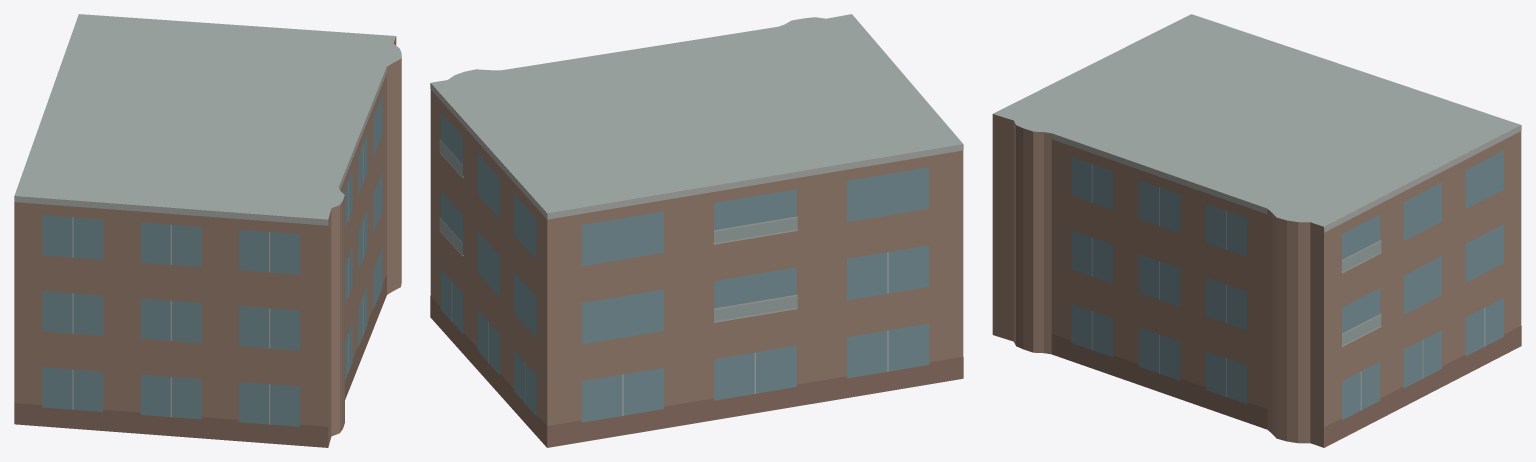
The model's file is survey-upis-32526485.glb.
3 views of the same model, side by side, from view 1: azimuth 30°, elevation 25°; view 2: azimuth 150°, elevation 25°; view 3: azimuth 270°, elevation 25° (orthographic). The views are drawn at different scales.
Parts seen in each view (by area): view 1: survey-upis-32526485.tmp; view 2: survey-upis-32526485.tmp; view 3: survey-upis-32526485.tmp.
Boxes of the visible parts, x1=… form: survey-upis-32526485.tmp: x1=14, y1=14, x2=401, y2=447; survey-upis-32526485.tmp: x1=430, y1=14, x2=963, y2=447; survey-upis-32526485.tmp: x1=992, y1=14, x2=1521, y2=447.
Size of the model in its own units: 18.9 by 9.15 by 19.85.
